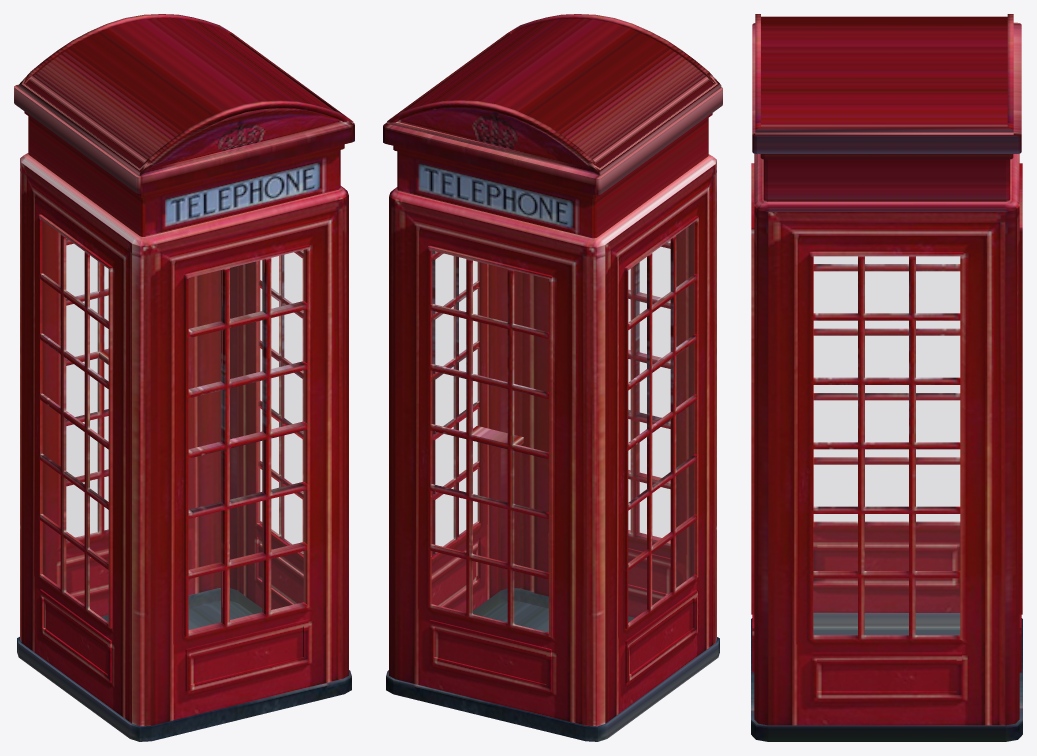
Rendered from telephone_booth.glb.
3 views of the same model, side by side, from view 1: azimuth 30°, elevation 25°; view 2: azimuth 150°, elevation 25°; view 3: azimuth 270°, elevation 25° (orthographic). The views are drawn at different scales.
Visible parts, largest first — view 1: Booth, BoothDoor; view 2: Booth, BoothDoor; view 3: Booth, BoothDoor.
Boxes of the visible parts, box(x1,y1,x2,y2) form: Booth: box(14, 14, 354, 741); BoothDoor: box(166, 219, 326, 721); Booth: box(383, 14, 722, 741); BoothDoor: box(534, 222, 694, 617); Booth: box(751, 14, 1022, 741); BoothDoor: box(751, 163, 754, 672).
Size of what is drawn, in the model's own units: 1.16 by 3.07 by 1.16.
Materials: 2 (1 with a texture image).
